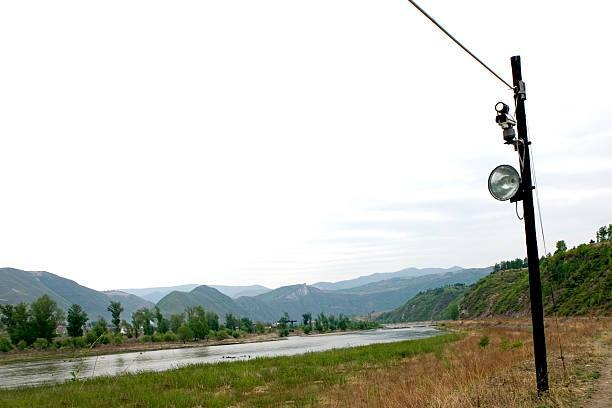camera: (477, 100, 527, 145)
